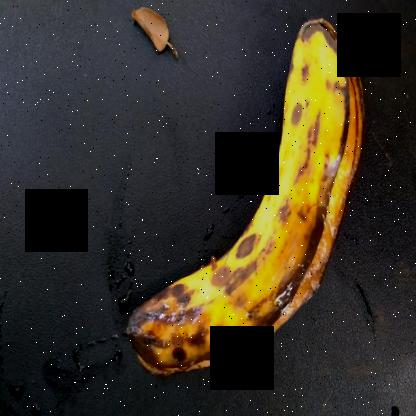rotten: (123, 14, 388, 381)
